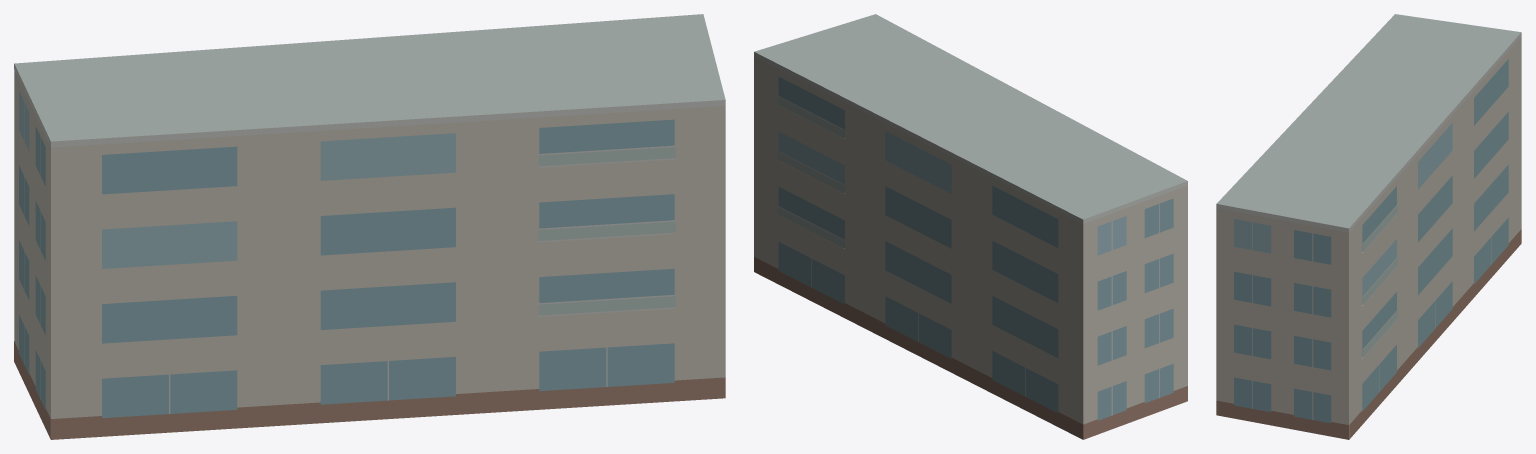
The model's file is survey-upis-33034694.glb.
The picture shows the model from 3 angles, left to right: view 1: azimuth 30°, elevation 25°; view 2: azimuth 150°, elevation 25°; view 3: azimuth 270°, elevation 25°; orthographic projection. The views are drawn at different scales.
Parts seen in each view (by area): view 1: survey-upis-33034694.tmp; view 2: survey-upis-33034694.tmp; view 3: survey-upis-33034694.tmp.
Part boxes in pixels (bbox=[...]): survey-upis-33034694.tmp: bbox=[14, 14, 725, 439]; survey-upis-33034694.tmp: bbox=[754, 14, 1187, 439]; survey-upis-33034694.tmp: bbox=[1216, 14, 1521, 439].
Size of the model in its own units: 26.55 by 12.2 by 15.96.
